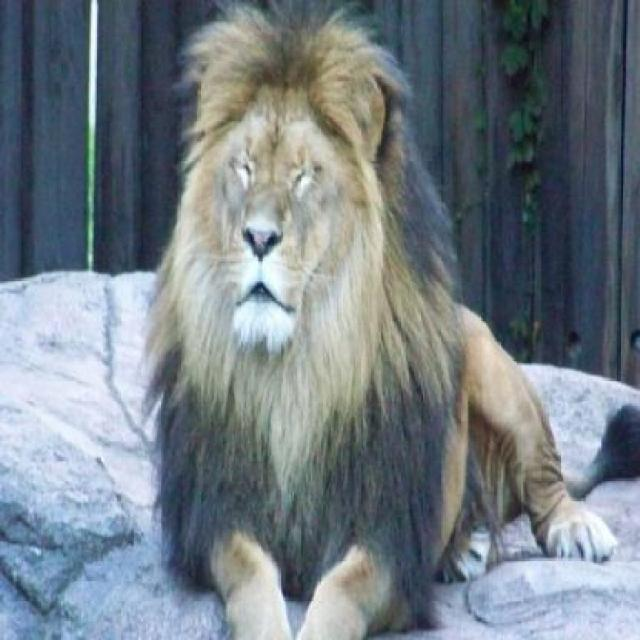Lion: (150, 6, 624, 639)
